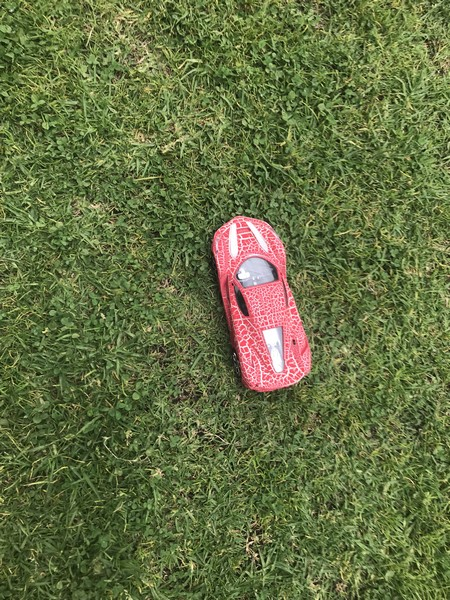RC: (210, 215, 313, 394)
